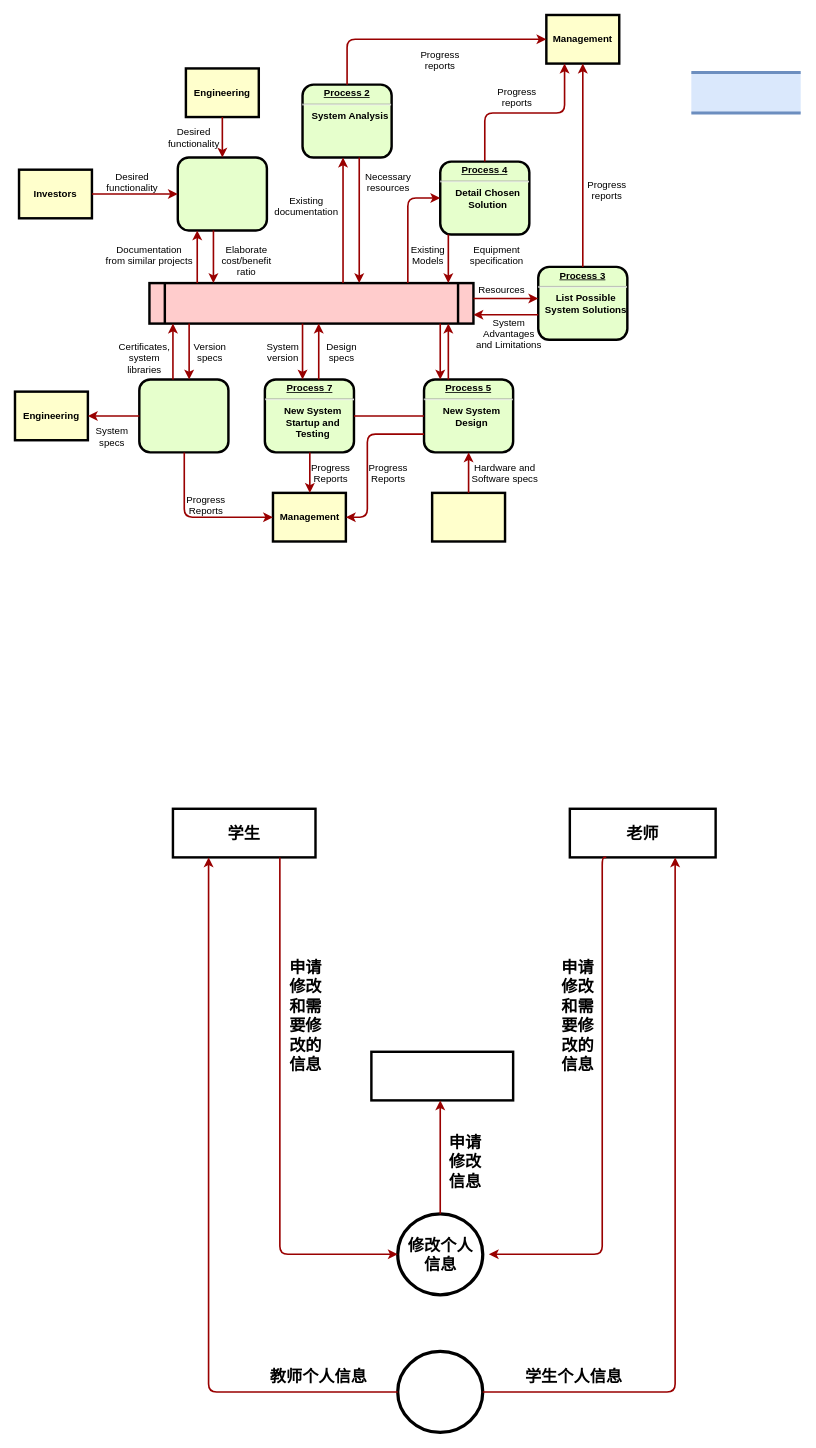
Some shapes in this 816 by 1448 pixel diagram are drawn without their labels. The centre of each missing label's shape, as x and y in pixels:
"Object" goes at pixel 745 92.
"ON-DEMAND SYSTEM DEVELOPMENT" goes at pixel 311 302.
"Process 1 System Study Preparation" goes at pixel 222 193.
"Process 6 New System Construction" goes at pixel 183 415.
"Vendors" goes at pixel 468 516.
"教务人员" goes at pixel 442 1075.
"查看 个人 信息" goes at pixel 440 1391.
